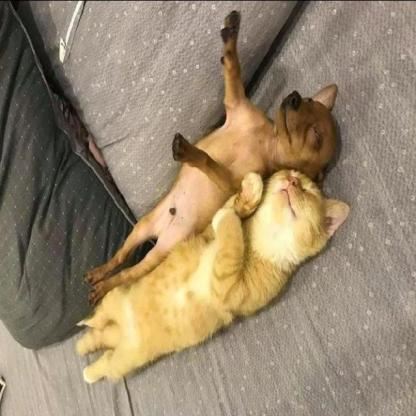cat: (210, 165, 342, 332)
dog: (217, 0, 347, 172)
